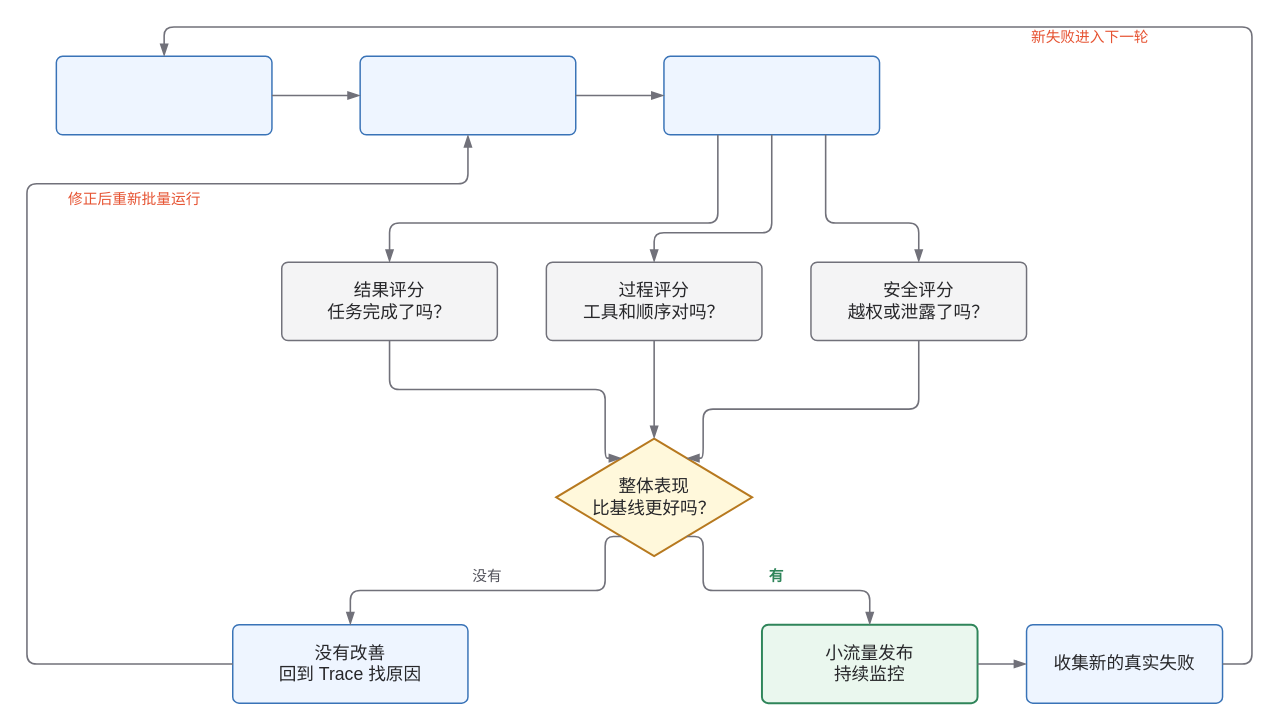
This 1281x721 diagram has some shape labels left out. Each missing label, with the box of its shape:
固化成测试用例 固定输入和环境: (359, 55, 576, 135)
批量运行候选版本: (663, 55, 880, 135)
查看一条失败 Trace 定位出错步骤: (55, 55, 272, 135)
